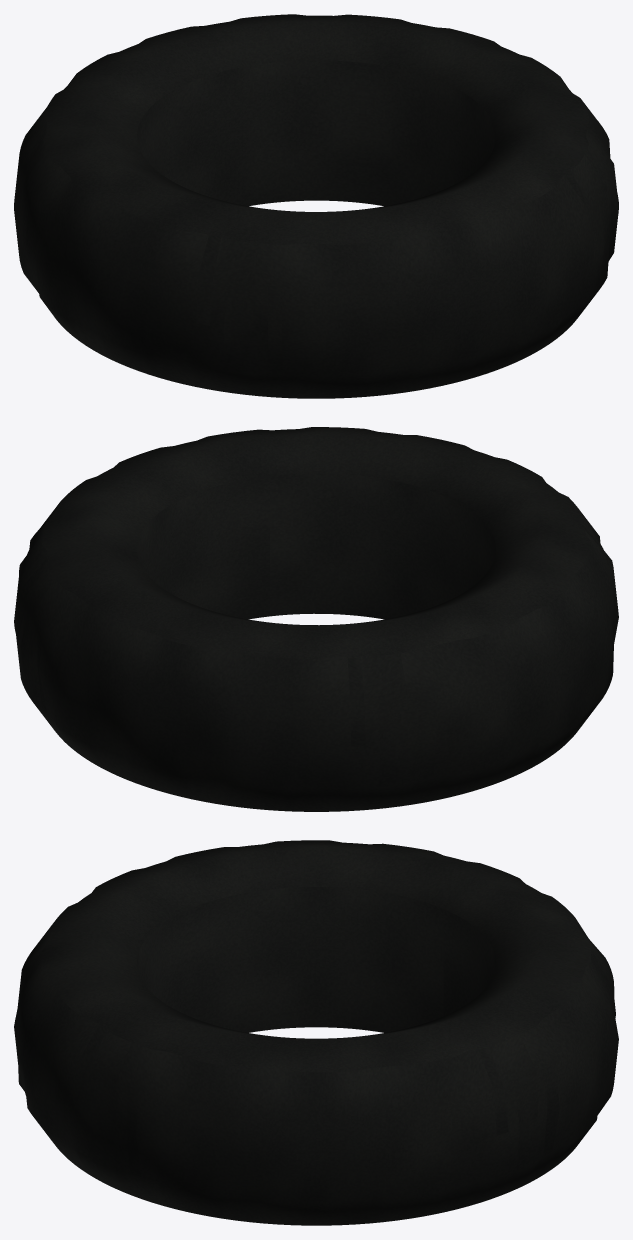
The model's file is SpareTire.fbx.
3 renders of one model, top to bottom at view 1: azimuth 30°, elevation 25°; view 2: azimuth 150°, elevation 25°; view 3: azimuth 270°, elevation 25°, orthographic.
Visible parts, largest first — view 1: SpareTire_Rubber; view 2: SpareTire_Rubber; view 3: SpareTire_Rubber.
Part boxes in pixels (bbox=[...]): SpareTire_Rubber: bbox=[14, 14, 618, 398]; SpareTire_Rubber: bbox=[14, 427, 618, 811]; SpareTire_Rubber: bbox=[14, 840, 618, 1225].
Size of the model in its own units: 85.9 by 28 by 85.9.
